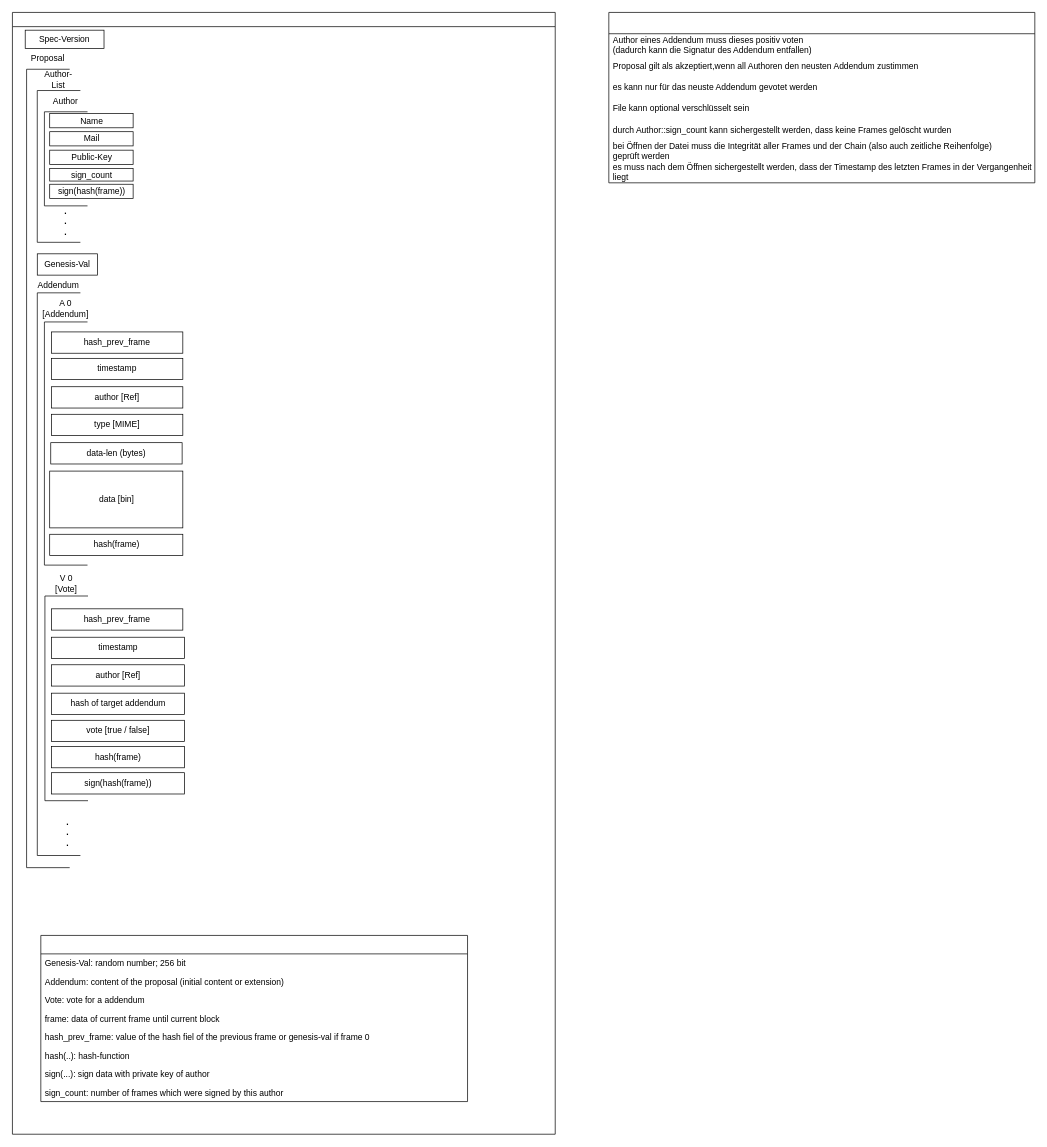
This 1047x1147 diagram has some shape labels left out. Each missing label, with the box of its shape:
File-Spec: (12, 12, 555, 1134)
Function-Spec: (608, 12, 1035, 183)
Symbols: (40, 935, 468, 1102)
